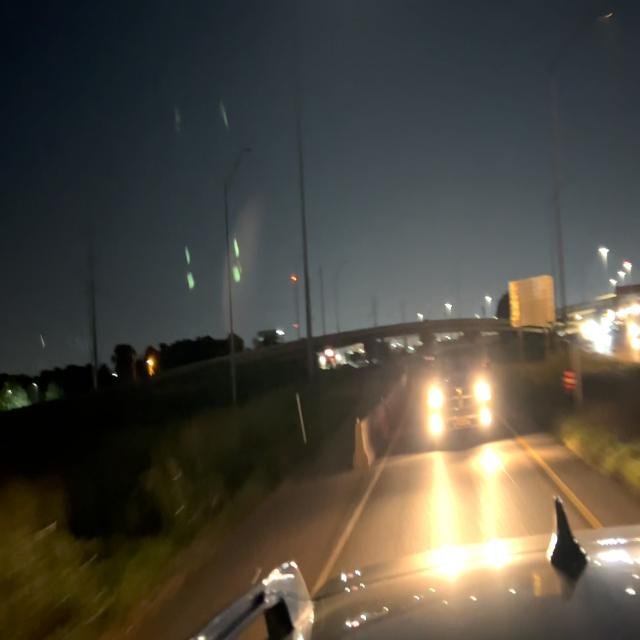back-of-sign: (511, 278, 553, 323)
